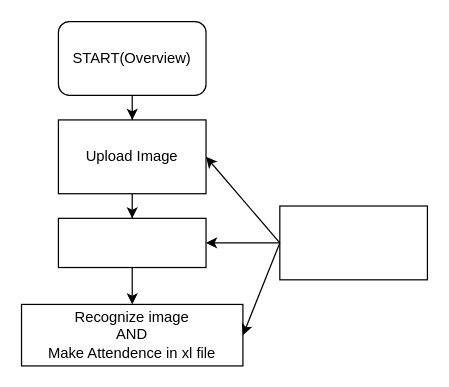
The diagram is 449 pixels wide and 387 high, and some of its shapes have lost their labels. The shapes that lost their labels are listed below. From the top down, each one's centre as x and y in pixels, then its label:
At [131,242]: "Training over image".
At [353,242]: "GUI interface AND CMD interface for all three modules".
